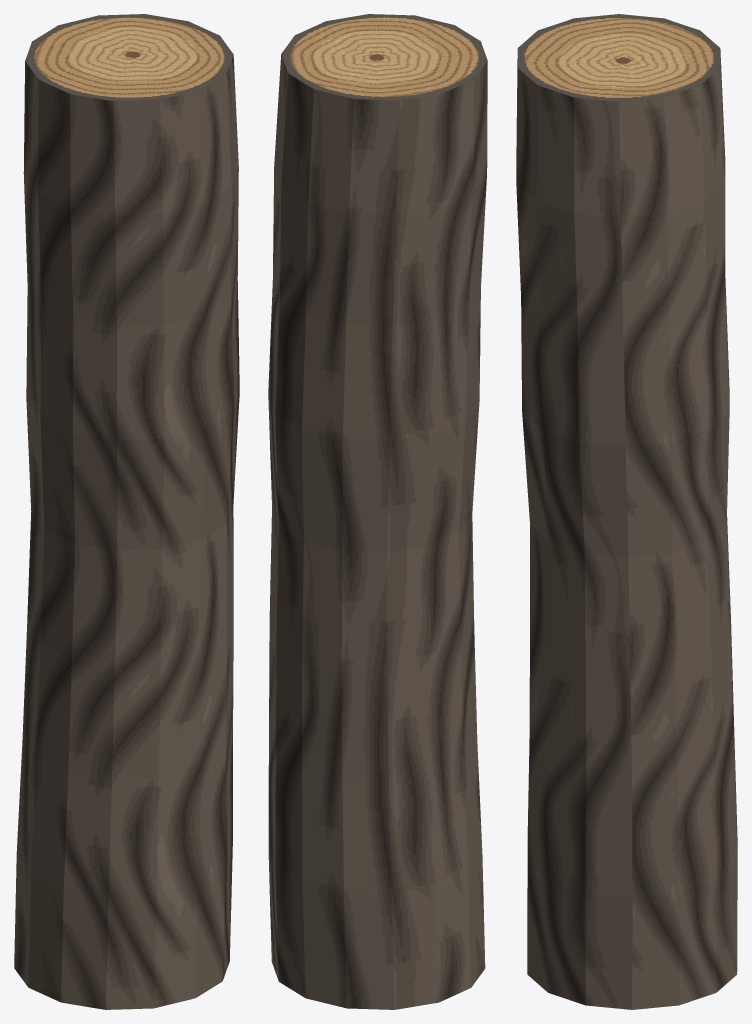
The model's file is environment_fir_loghalf_v1.fbx.
3 views of the same model, side by side, from view 1: azimuth 30°, elevation 25°; view 2: azimuth 150°, elevation 25°; view 3: azimuth 270°, elevation 25° (orthographic).
Visible parts, largest first — view 1: environment_fir_loghalf_v1; view 2: environment_fir_loghalf_v1; view 3: environment_fir_loghalf_v1.
Part boxes in pixels (bbox=[...]): environment_fir_loghalf_v1: bbox=[14, 14, 239, 1009]; environment_fir_loghalf_v1: bbox=[268, 14, 487, 1009]; environment_fir_loghalf_v1: bbox=[516, 14, 737, 1009].
Bounding box in the file's own units: 89.14 × 400 × 88.48.
